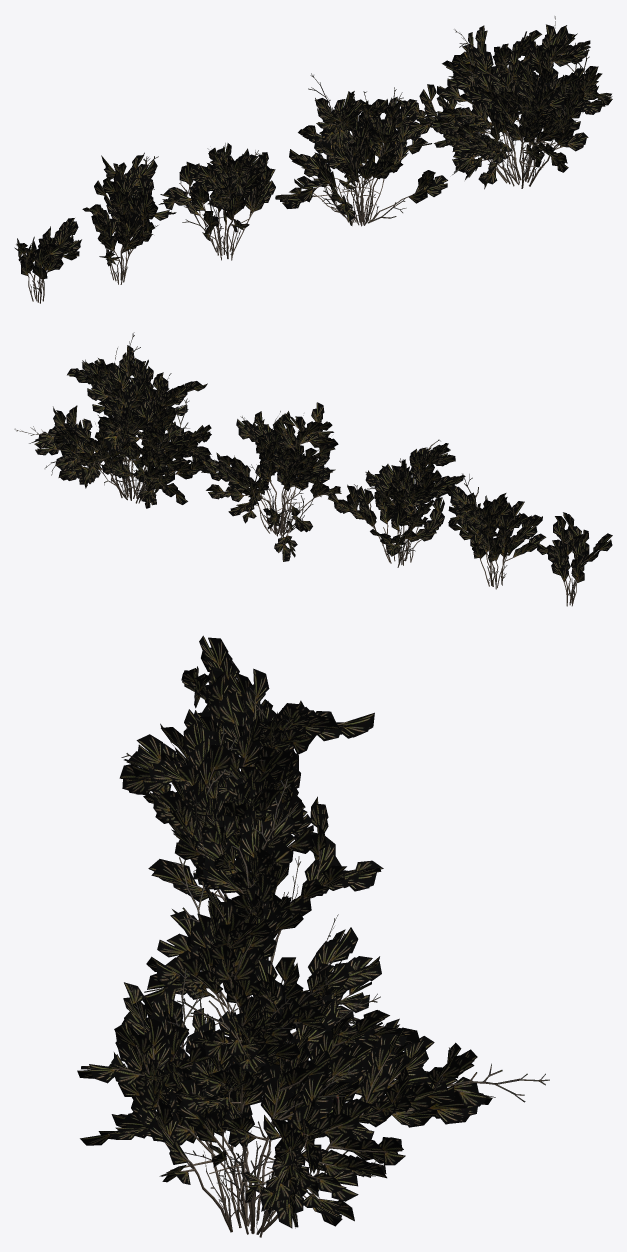
File: wild_rooibos_bush.glb
3 views of the same model, one above another, from view 1: azimuth 30°, elevation 25°; view 2: azimuth 150°, elevation 25°; view 3: azimuth 270°, elevation 25° (orthographic). The views are drawn at different scales.
Visible parts, largest first — view 1: wild_rooibos_bush_a, wild_rooibos_bush_b, wild_rooibos_bush_c, wild_rooibos_bush_d, wild_rooibos_bush_e; view 2: wild_rooibos_bush_a, wild_rooibos_bush_b, wild_rooibos_bush_c, wild_rooibos_bush_d, wild_rooibos_bush_e; view 3: wild_rooibos_bush_a, wild_rooibos_bush_b, wild_rooibos_bush_c, wild_rooibos_bush_d, wild_rooibos_bush_e.
Boxes of the visible parts, x1,y1,x2,y2 form: wild_rooibos_bush_a: [397, 16, 612, 189]; wild_rooibos_bush_b: [275, 73, 447, 226]; wild_rooibos_bush_c: [158, 143, 275, 260]; wild_rooibos_bush_d: [82, 152, 176, 284]; wild_rooibos_bush_e: [14, 218, 81, 303]; wild_rooibos_bush_a: [14, 332, 218, 508]; wild_rooibos_bush_b: [201, 402, 341, 561]; wild_rooibos_bush_c: [328, 439, 465, 567]; wild_rooibos_bush_d: [445, 473, 546, 589]; wild_rooibos_bush_e: [537, 512, 612, 606]; wild_rooibos_bush_a: [77, 958, 549, 1237]; wild_rooibos_bush_b: [142, 778, 381, 1043]; wild_rooibos_bush_c: [119, 718, 383, 963]; wild_rooibos_bush_d: [160, 668, 374, 811]; wild_rooibos_bush_e: [181, 635, 272, 755].
Bounding box in the file's own units: 2.28 × 0.5413 × 0.8434.
Materials: 2 (2 with a texture image).
